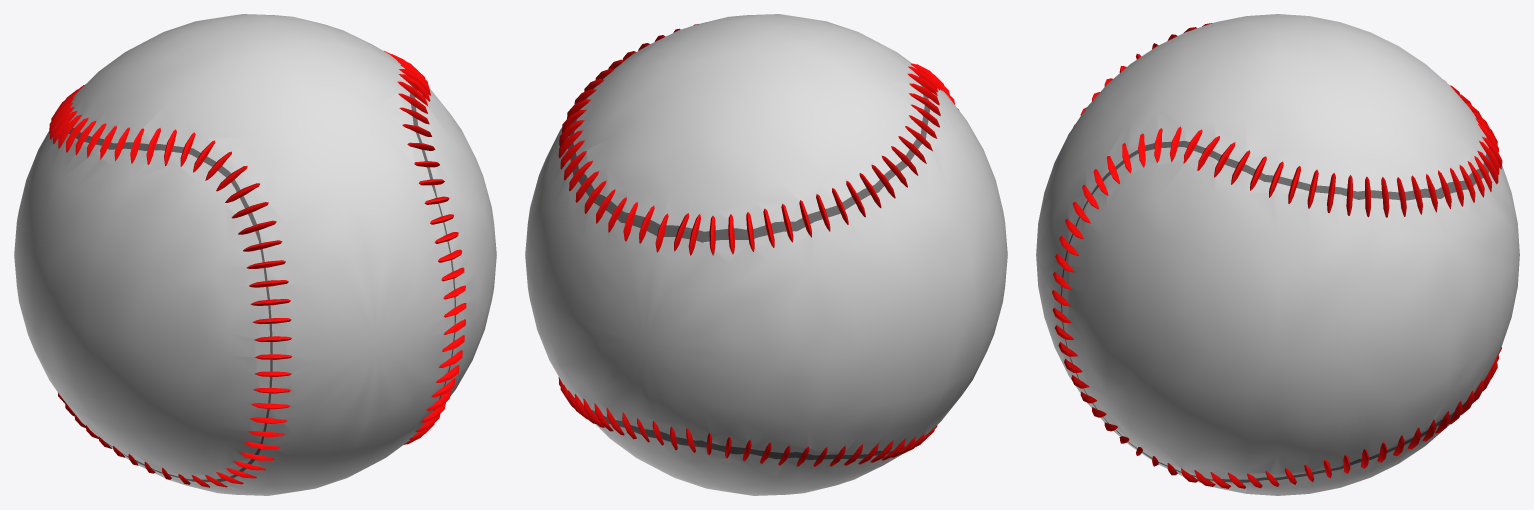
Rendered from Baseball.FBX.
3 renders of one model, left to right at view 1: azimuth 30°, elevation 25°; view 2: azimuth 150°, elevation 25°; view 3: azimuth 270°, elevation 25°, orthographic.
Parts seen in each view (by area): view 1: Leather, Stitching, Gap; view 2: Leather, Stitching, Gap; view 3: Leather, Stitching, Gap.
Part boxes in pixels (x1,y1,x2,y2): Leather: [14, 14, 496, 495]; Stitching: [49, 51, 466, 487]; Gap: [62, 86, 455, 481]; Leather: [525, 14, 1007, 495]; Stitching: [558, 24, 959, 466]; Gap: [568, 69, 929, 459]; Leather: [1036, 14, 1519, 495]; Stitching: [1052, 23, 1502, 488]; Gap: [1061, 137, 1490, 482].
Bounding box in the file's own units: 2.7 × 2.7 × 2.7.
